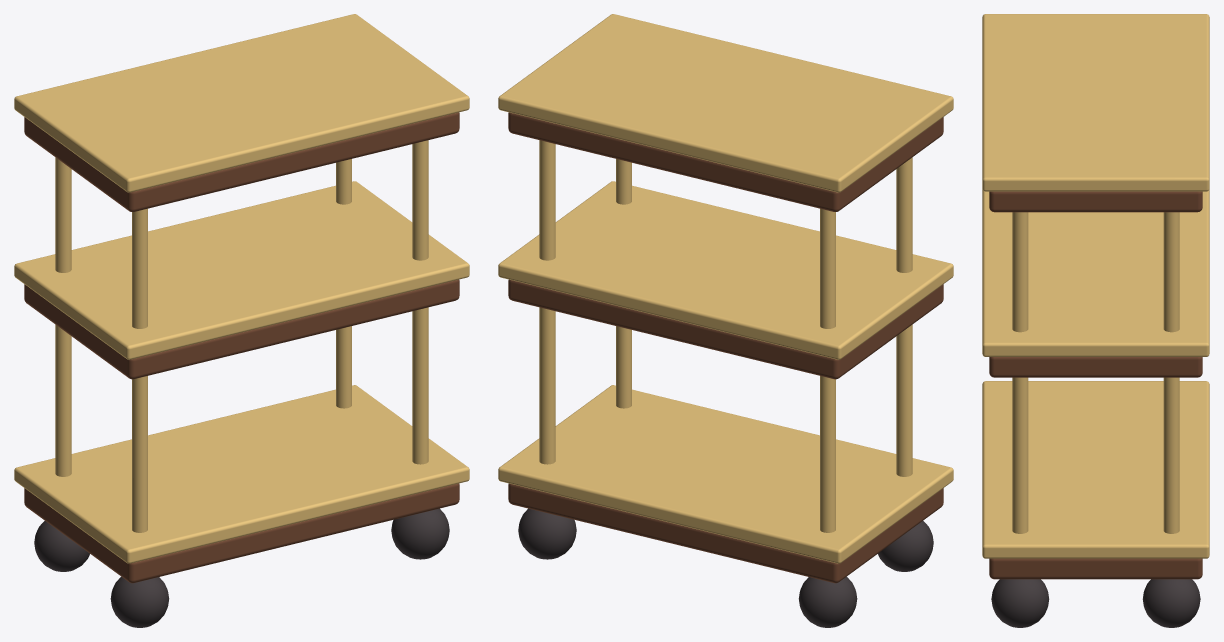
Rendered from royal-court-and-throne-palace-tiered-serving-trolley-9a8dc7ca__29407.glb.
The picture shows the model from 3 angles, left to right: view 1: azimuth 30°, elevation 25°; view 2: azimuth 150°, elevation 25°; view 3: azimuth 270°, elevation 25°; orthographic projection.
Parts seen in each view (by area): view 1: tiered-serving-trolley; view 2: tiered-serving-trolley; view 3: tiered-serving-trolley.
Boxes of the visible parts, bbox=[...] form: tiered-serving-trolley: bbox=[14, 14, 469, 627]; tiered-serving-trolley: bbox=[498, 14, 953, 627]; tiered-serving-trolley: bbox=[982, 14, 1209, 627].
Size of the model in its own units: 0.8801 by 1.15 by 0.5101.
